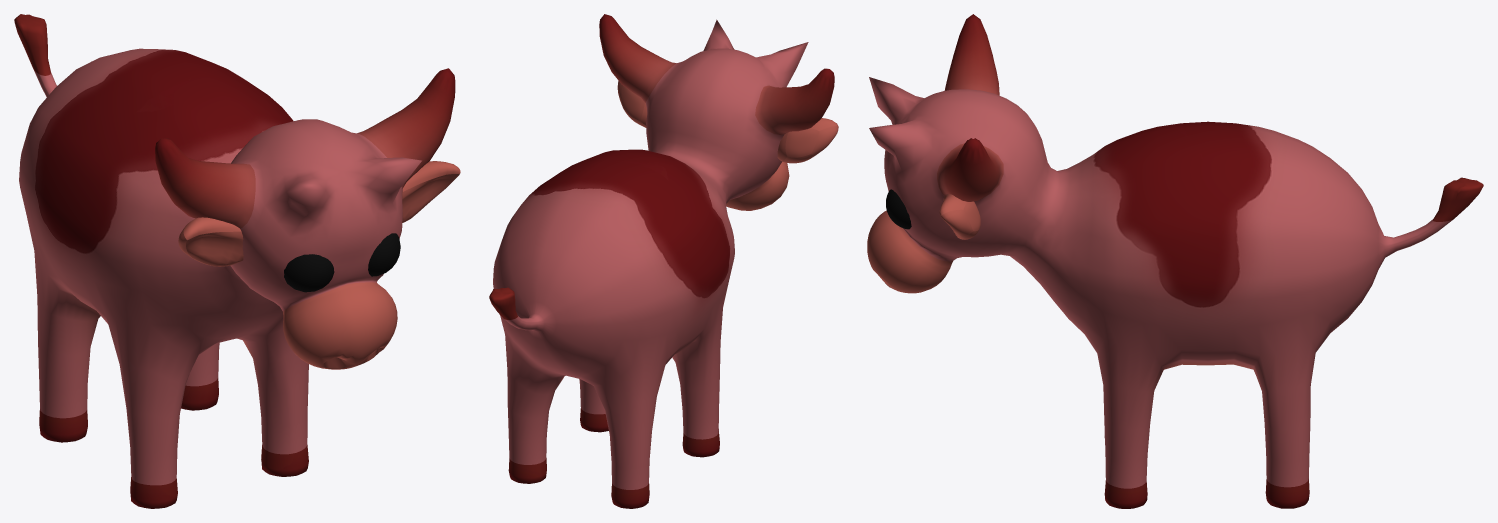
The model's file is Cow - evilcow.fbx.
3 views of the same model, side by side, from view 1: azimuth 30°, elevation 25°; view 2: azimuth 150°, elevation 25°; view 3: azimuth 270°, elevation 25° (orthographic). The views are drawn at different scales.
Parts seen in each view (by area): view 1: cow, ear_right, ear_left, eyeball_right, eyeball_left; view 2: cow, ear_right, ear_left; view 3: cow, ear_left.
Boxes of the visible parts, left/top/right/bottom form: cow: left=14, top=14, right=455, bottom=508; ear_right: left=178, top=217, right=243, bottom=266; ear_left: left=402, top=161, right=460, bottom=222; eyeball_right: left=284, top=254, right=334, bottom=292; eyeball_left: left=368, top=233, right=400, bottom=276; cow: left=489, top=14, right=834, bottom=508; ear_right: left=777, top=118, right=838, bottom=163; ear_left: left=617, top=81, right=647, bottom=127; cow: left=867, top=14, right=1483, bottom=508; ear_left: left=939, top=194, right=980, bottom=239.
Bounding box in the file's own units: 2.35 × 3.37 × 4.73.
